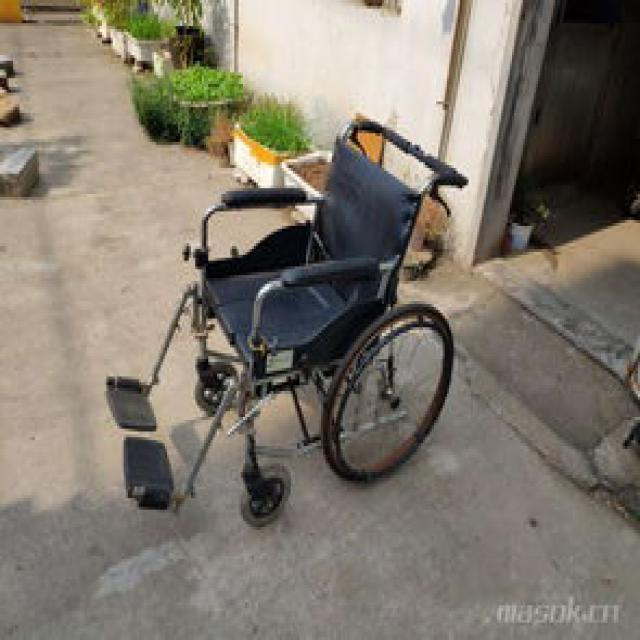wheelchair: (72, 101, 470, 553)
